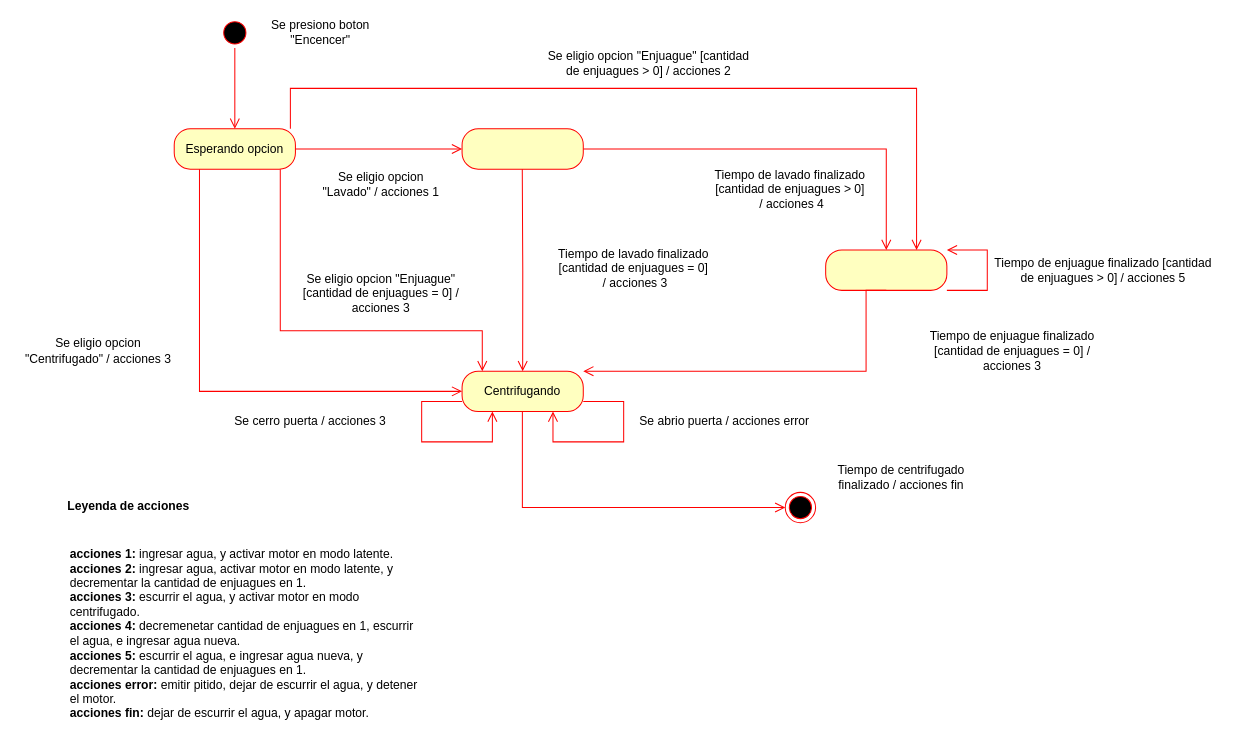
Image size: 1236x752. Some labels were removed from this diagram. The shapes that lost their labels are listed below. From the top down, each one's centre as x and y in pixels, then its label:
the point at 522,148: Lavando
the point at 886,269: Enjuagando
